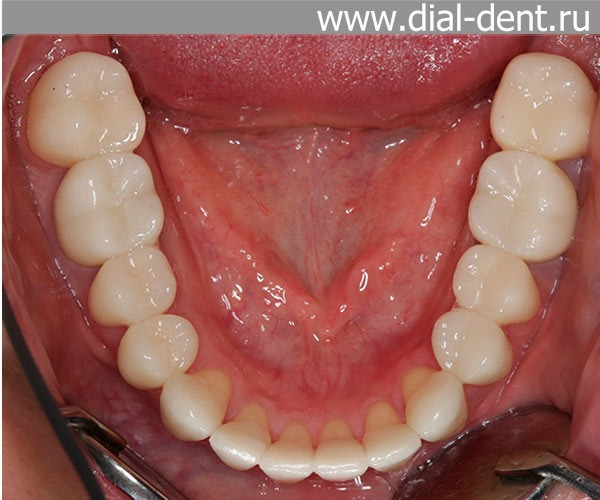LL1BC_healthy: (435, 306, 512, 383)
LL1M_healthy: (469, 150, 575, 259)
LL2BC_healthy: (454, 246, 538, 321)
LL2M_healthy: (493, 49, 593, 154)
LLCI_healthy: (313, 417, 367, 480)
LLC_healthy: (403, 368, 469, 441)
LLLI_healthy: (358, 403, 422, 468)
LR1BC_healthy: (120, 318, 195, 381)
LR1M_healthy: (63, 157, 161, 256)
LR2BC_healthy: (93, 254, 175, 323)
LR2M_healthy: (35, 57, 148, 154)
LRCI_healthy: (264, 419, 313, 481)
LRC_healthy: (168, 370, 230, 439)
LRLI_healthy: (217, 406, 266, 470)
